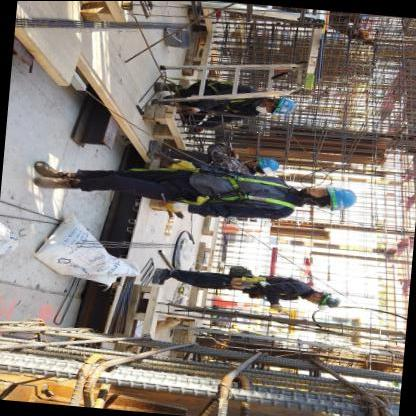safety-shoe: (30, 173, 75, 193), (31, 161, 69, 178), (144, 138, 165, 160), (152, 267, 173, 286)
